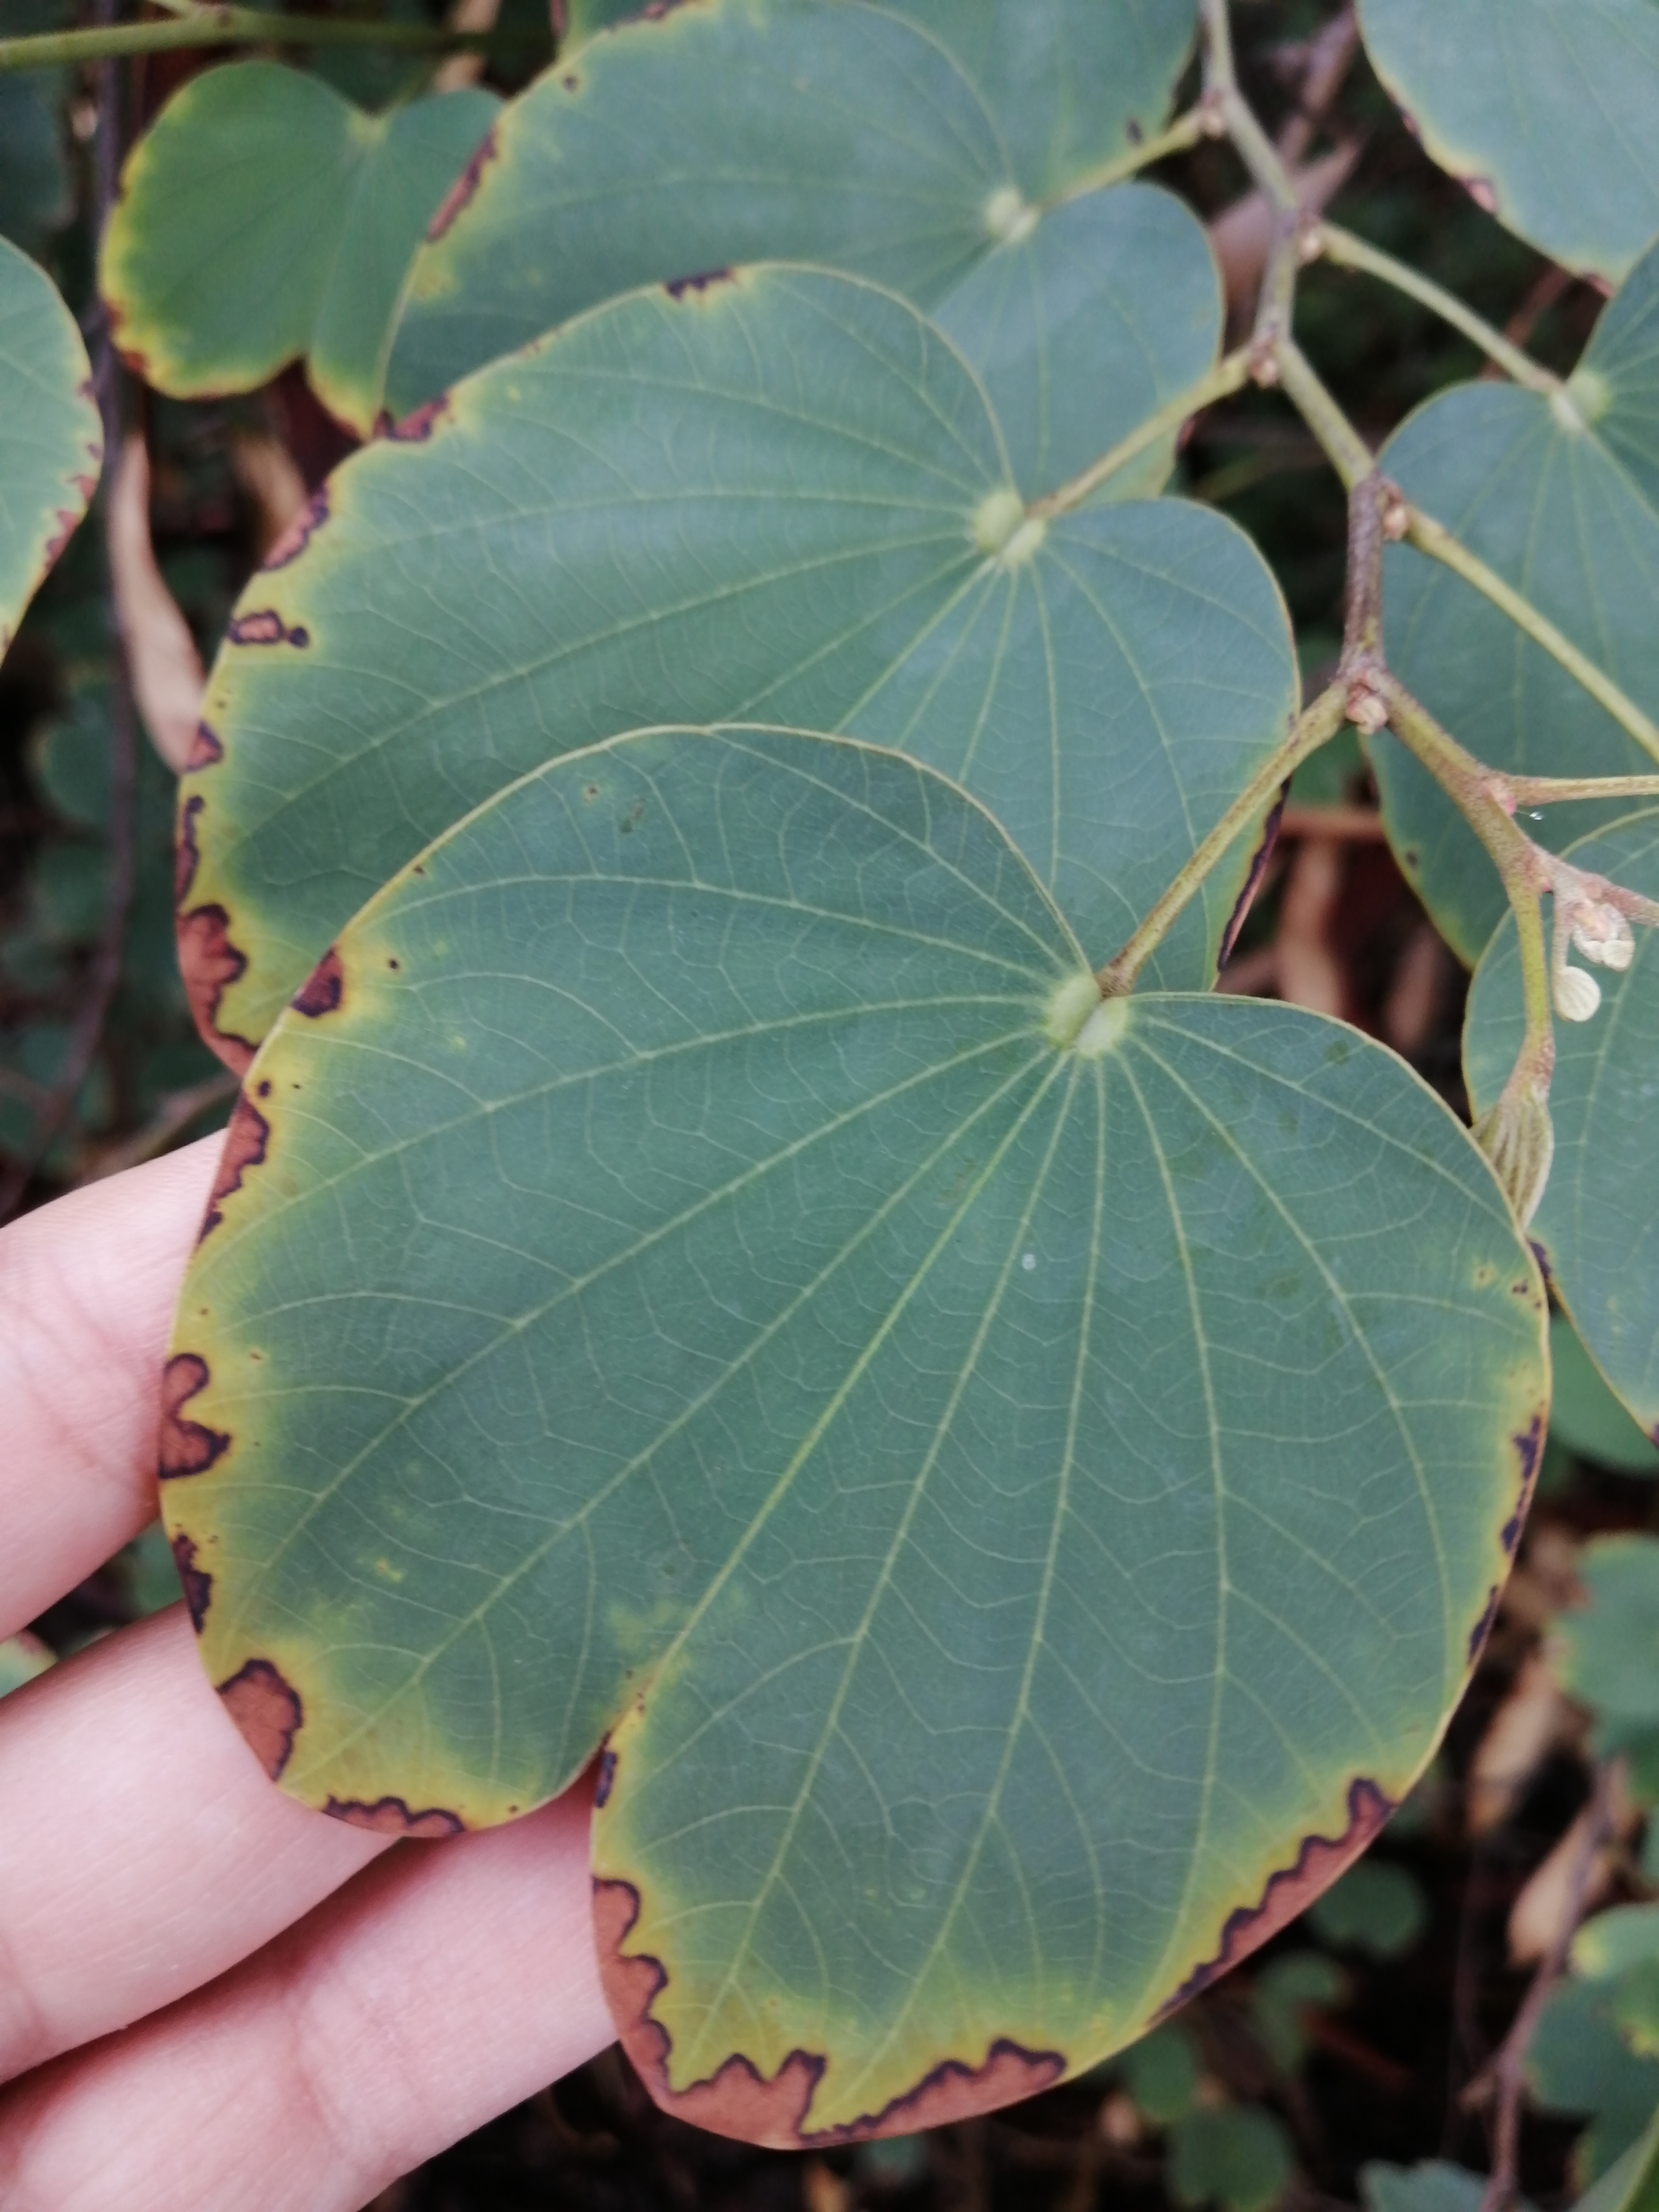nothealthy: (146, 688, 1561, 2163), (153, 254, 1302, 1108)
